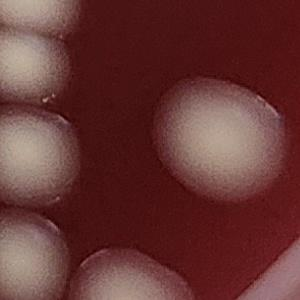colony: (144, 68, 293, 211), (0, 96, 89, 222), (0, 21, 87, 119), (61, 244, 206, 300), (0, 211, 77, 300), (0, 0, 90, 44)
